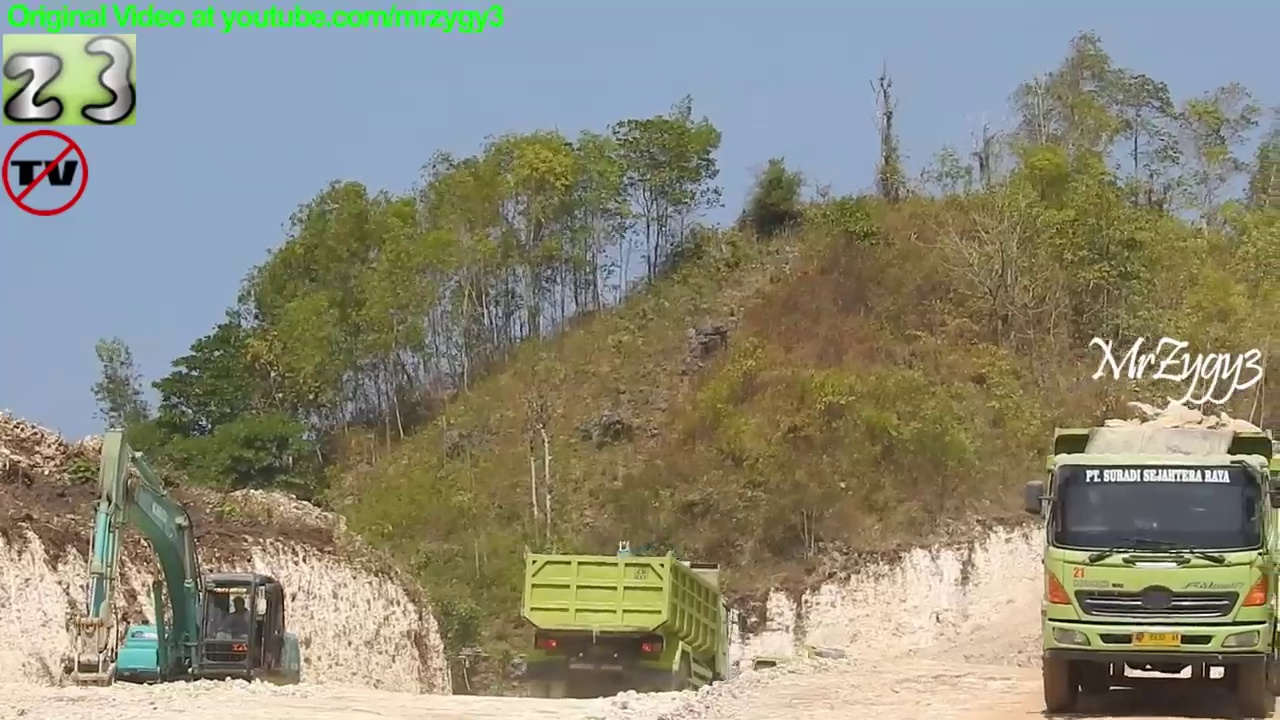excavator: (60, 421, 306, 720), (561, 536, 709, 709)
truck: (1019, 416, 1280, 720), (517, 545, 731, 710)
